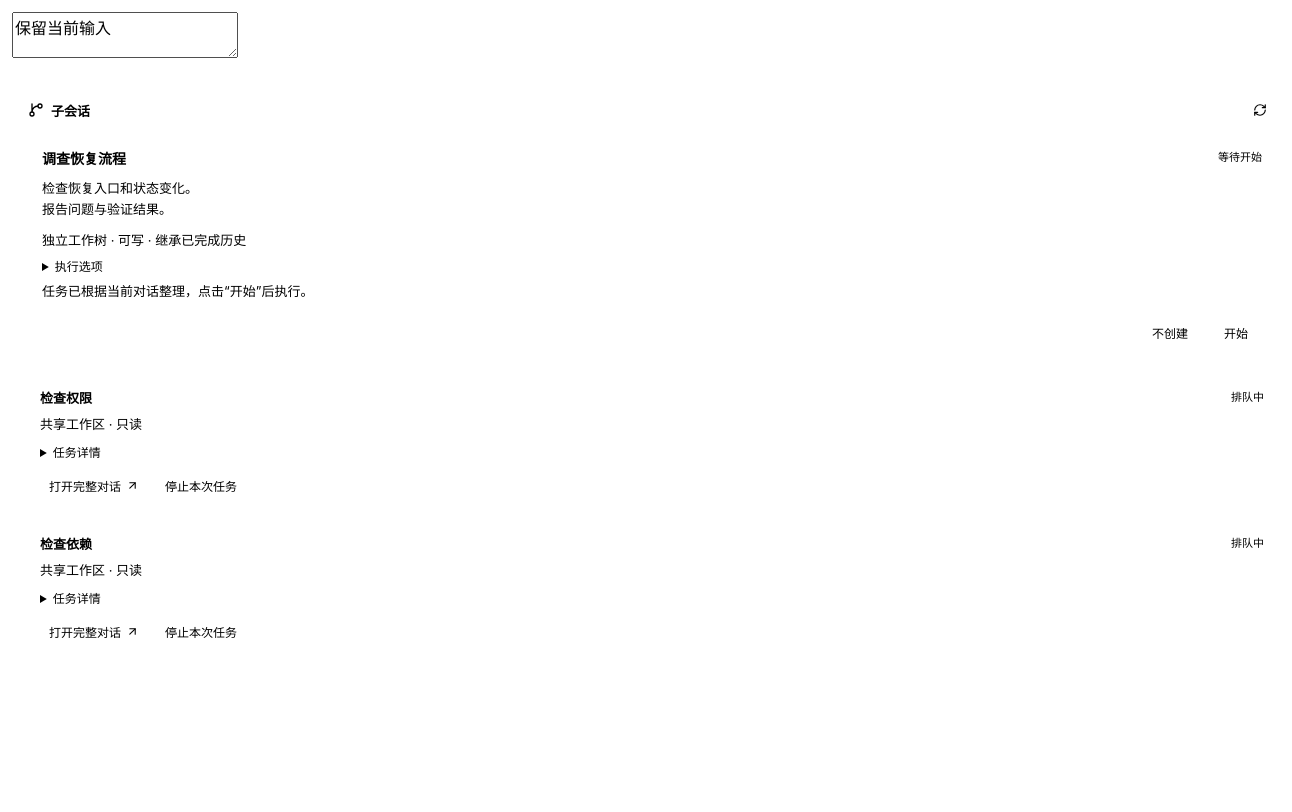
Test: renders a complete filled proposal without input fields or automatically starting work
The image size is (1292, 812).
Expected: the text "独立工作树 · 可写 · 继承已完成历史" is shown, 42,232 -> 246,248
Click the heading "执行选项": coordinates (79, 267) 55,259 -> 103,274
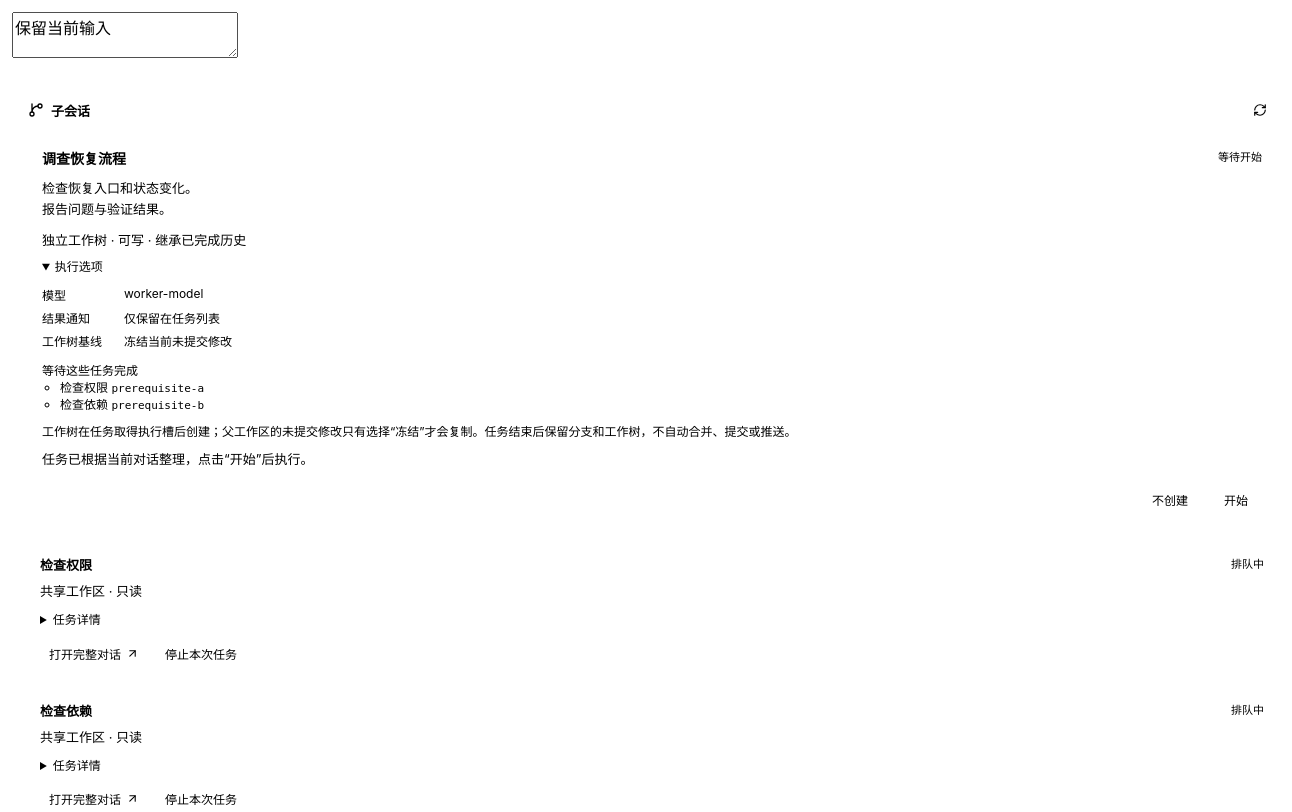
Result: the text "worker-model" is shown at 124,286 -> 203,301
Result: the text "仅保留在任务列表" is shown at 124,311 -> 220,326
Result: the text "冻结当前未提交修改" is shown at 124,334 -> 232,349
